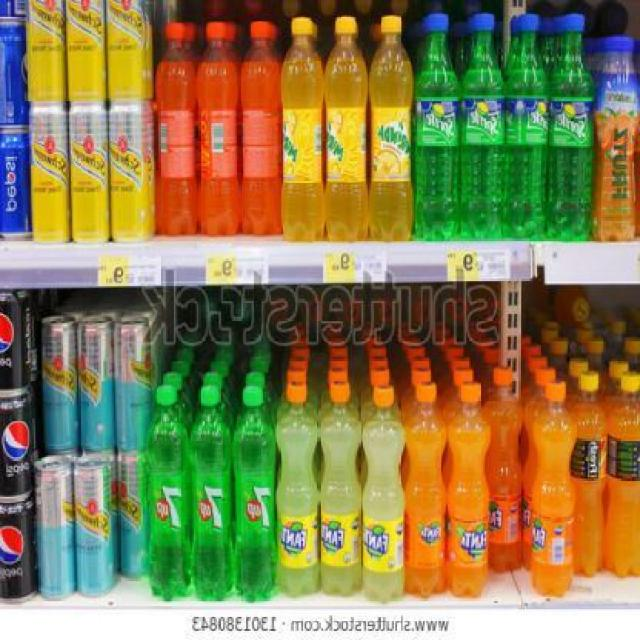Drinks: (505, 14, 550, 240), (549, 14, 594, 240), (416, 12, 461, 238), (461, 12, 505, 238), (533, 380, 578, 600), (446, 382, 491, 600), (362, 383, 406, 603), (232, 384, 276, 602), (318, 380, 362, 598), (190, 386, 233, 602), (146, 384, 188, 602), (276, 380, 318, 598), (406, 380, 446, 600), (0, 498, 38, 605), (1, 399, 32, 503), (1, 289, 28, 397)
